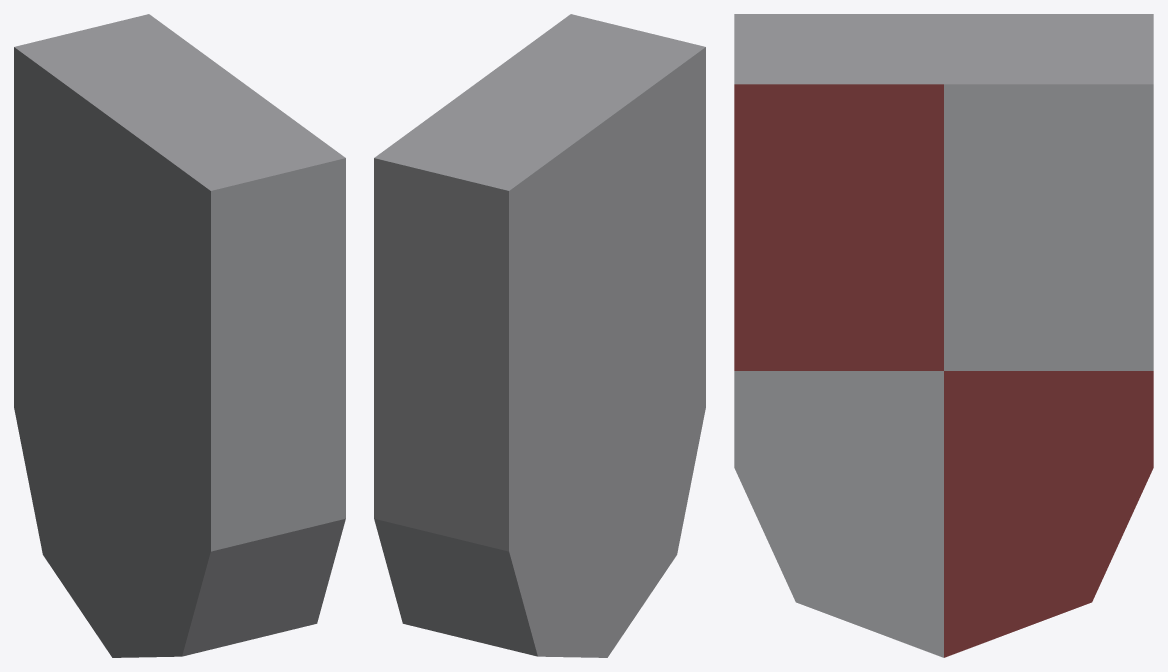
File: Shield_Red_01.obj
The picture shows the model from 3 angles, left to right: view 1: azimuth 30°, elevation 25°; view 2: azimuth 150°, elevation 25°; view 3: azimuth 270°, elevation 25°; orthographic projection. The views are drawn at different scales.
Visible parts, largest first — view 1: Mesh1_Shield_Red_Model; view 2: Mesh1_Shield_Red_Model; view 3: Mesh1_Shield_Red_Model.
Part boxes in pixels (x1,y1,x2,y2): Mesh1_Shield_Red_Model: (14,14,345,657); Mesh1_Shield_Red_Model: (374,14,705,657); Mesh1_Shield_Red_Model: (734,14,1153,657).
Size of the model in its own units: 0.2 by 0.7625 by 0.5047.
